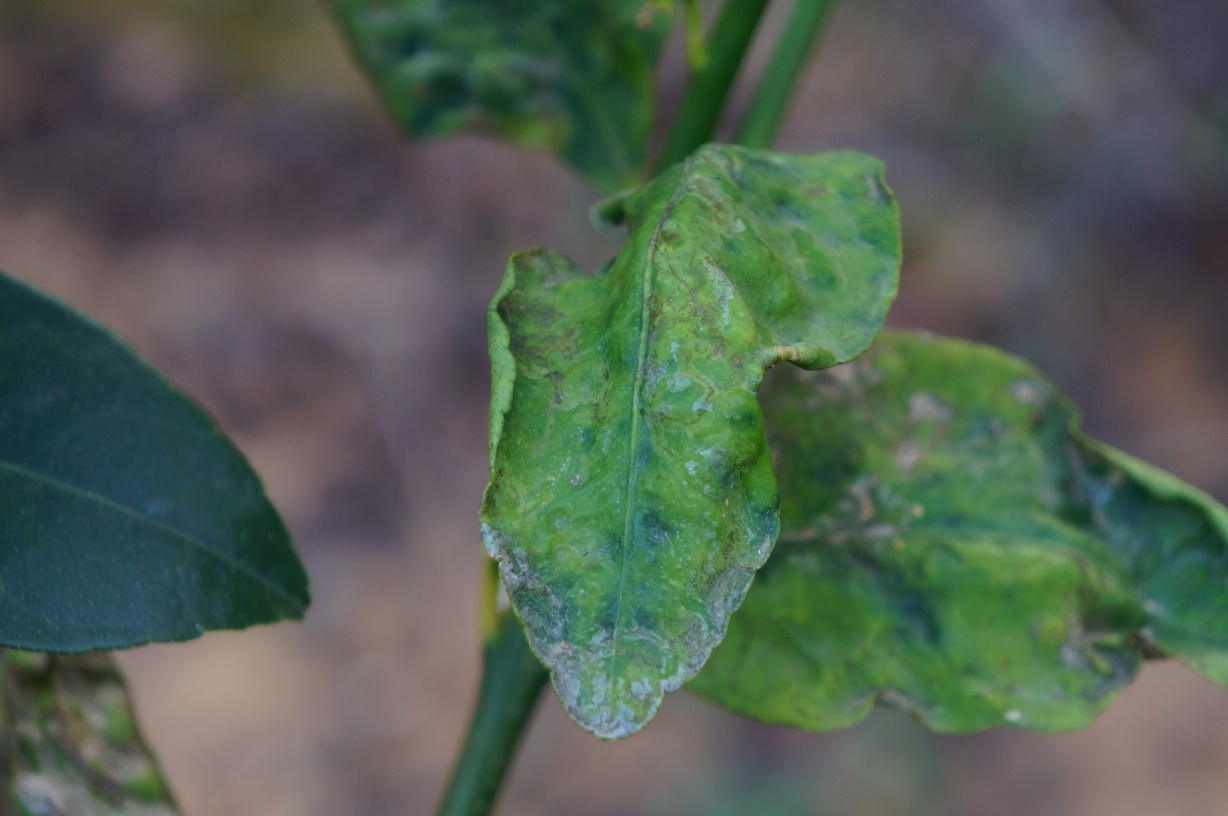curly: (474, 131, 916, 750)
damage: (472, 506, 805, 747)
